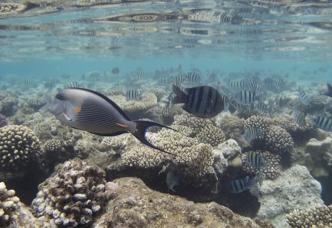Acanthuridae -Surgeonfishes-: (47, 85, 188, 158)
